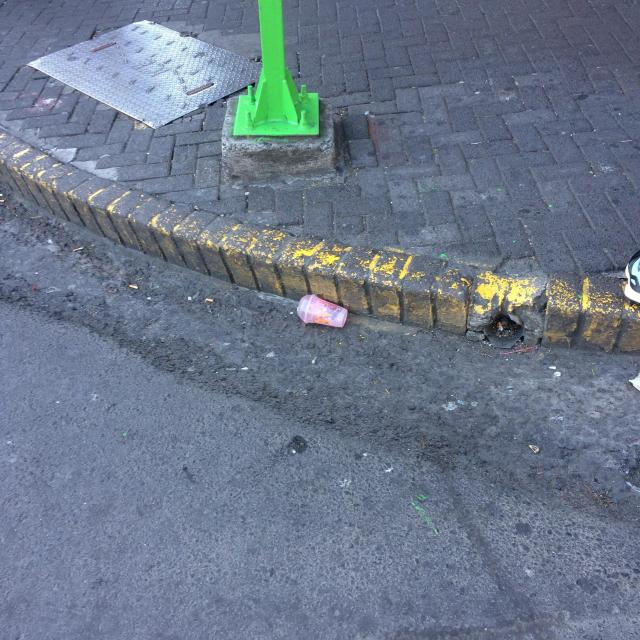less trash: (298, 295, 348, 328)
